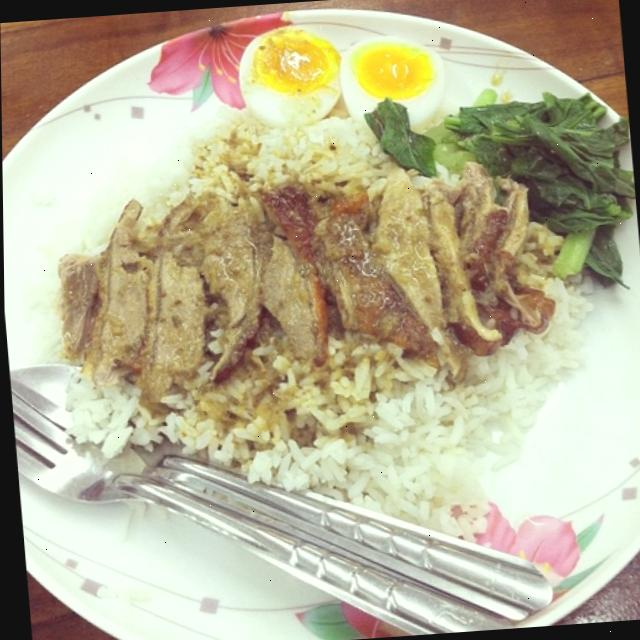米饭主食: (37, 52, 622, 522)
